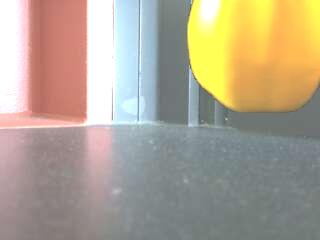Capsicum: (183, 0, 320, 115)
